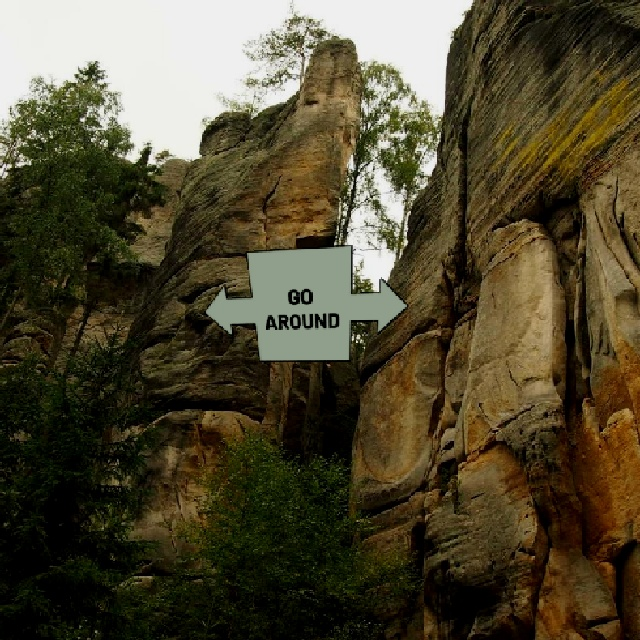GO_AROUND: (202, 243, 408, 361)
